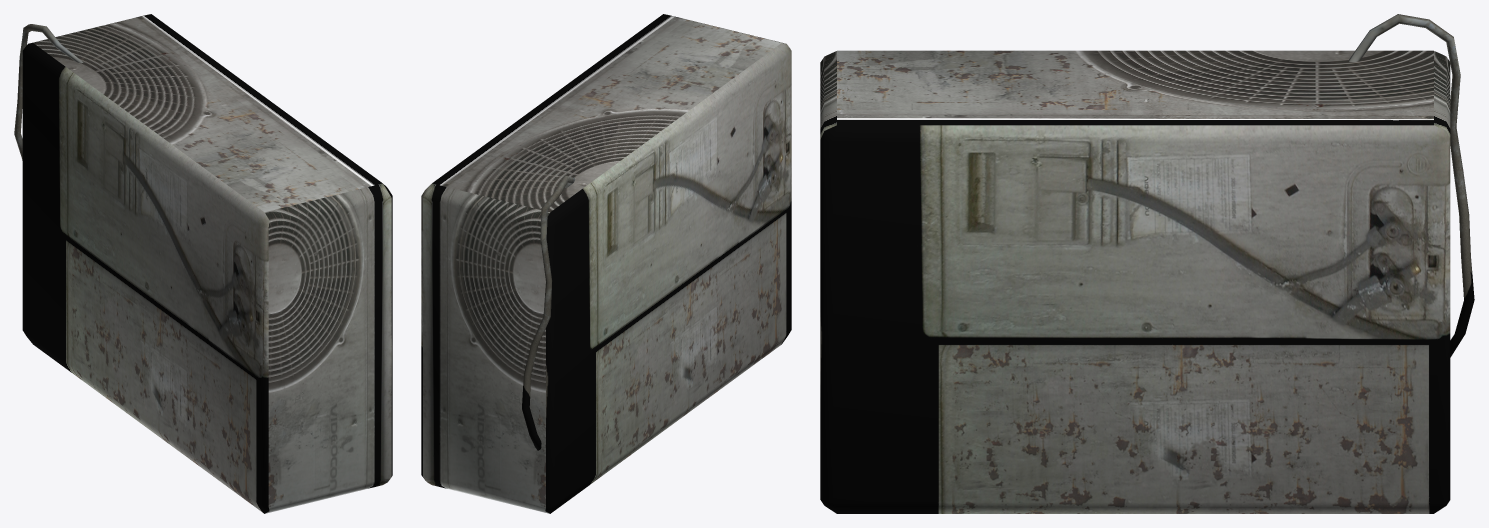
Rendered from AIRCONDITION.obj.
The picture shows the model from 3 angles, left to right: view 1: azimuth 30°, elevation 25°; view 2: azimuth 150°, elevation 25°; view 3: azimuth 270°, elevation 25°; orthographic projection. The views are drawn at different scales.
Parts seen in each view (by area): view 1: polySurface1_Untitled; view 2: polySurface1_Untitled; view 3: polySurface1_Untitled.
Boxes of the visible parts, x1,y1,x2,y2 form: polySurface1_Untitled: [14, 14, 392, 513]; polySurface1_Untitled: [421, 14, 791, 513]; polySurface1_Untitled: [820, 14, 1474, 513].
Bounding box in the file's own units: 1.02 × 2.39 × 3.34.
Materials: 1 (1 with a texture image).
